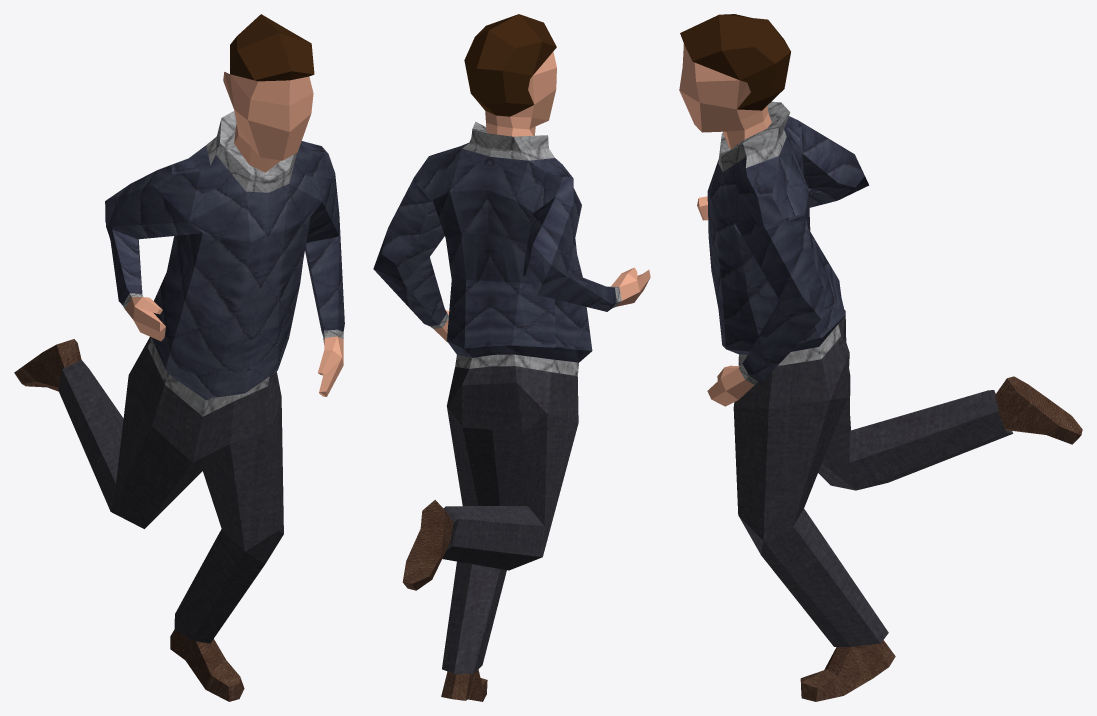
The model's file is AutumnBoy.006.glb.
3 views of the same model, side by side, from view 1: azimuth 30°, elevation 25°; view 2: azimuth 150°, elevation 25°; view 3: azimuth 270°, elevation 25° (orthographic). The views are drawn at different scales.
Visible parts, largest first — view 1: AutumnBoy.006; view 2: AutumnBoy.006; view 3: AutumnBoy.006.
Part boxes in pixels (x1,y1,x2,y2): AutumnBoy.006: (14, 14, 344, 701); AutumnBoy.006: (373, 14, 650, 701); AutumnBoy.006: (679, 14, 1082, 701).
Size of the model in its own units: 0.5505 by 1.52 by 0.8137.
1 material, 1 textured.
